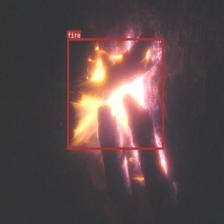fire: (67, 38, 163, 149)
